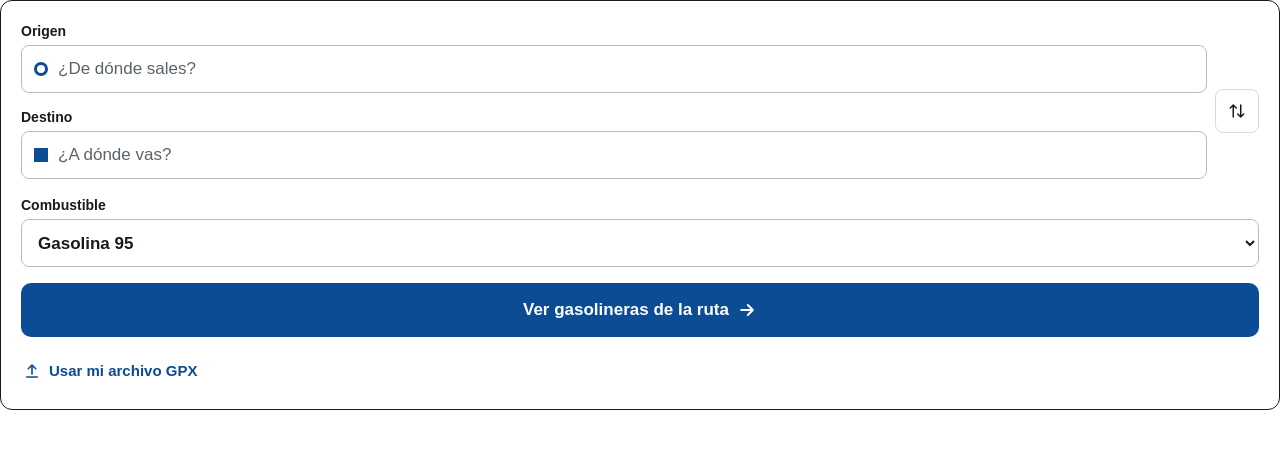
Test case: SearchForm › says when a place does not exist at all
This screenshot has width=1280, height=456.
Type "Xyzzy" into the dropdown labelled "Origen".
click(630, 69); type("Xyzzy")  # box [58,46,1202,92]
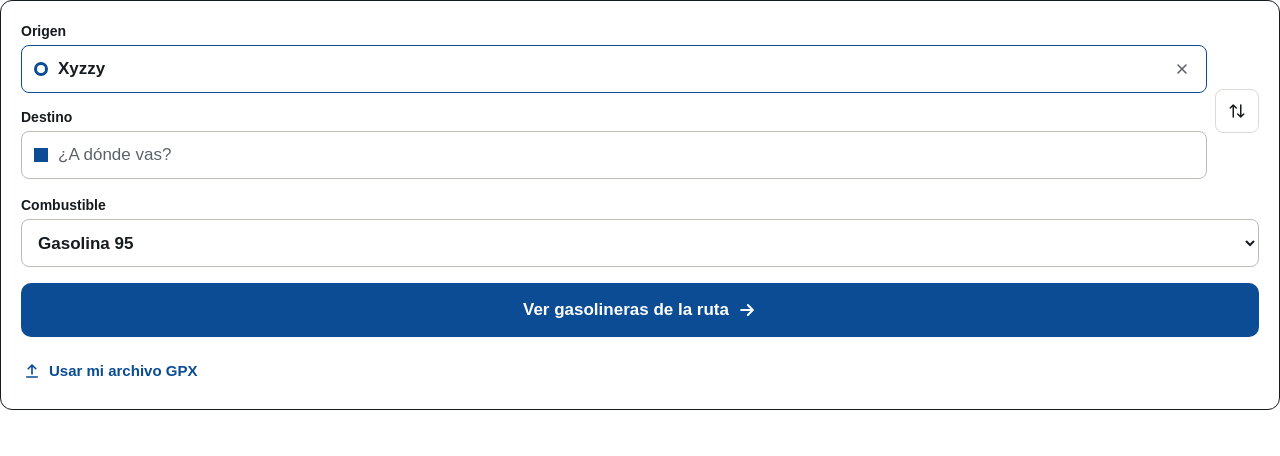
Type "Valencia" into the dropdown labelled "Destino".
click(630, 155); type("Valencia")  # box [58,132,1202,178]
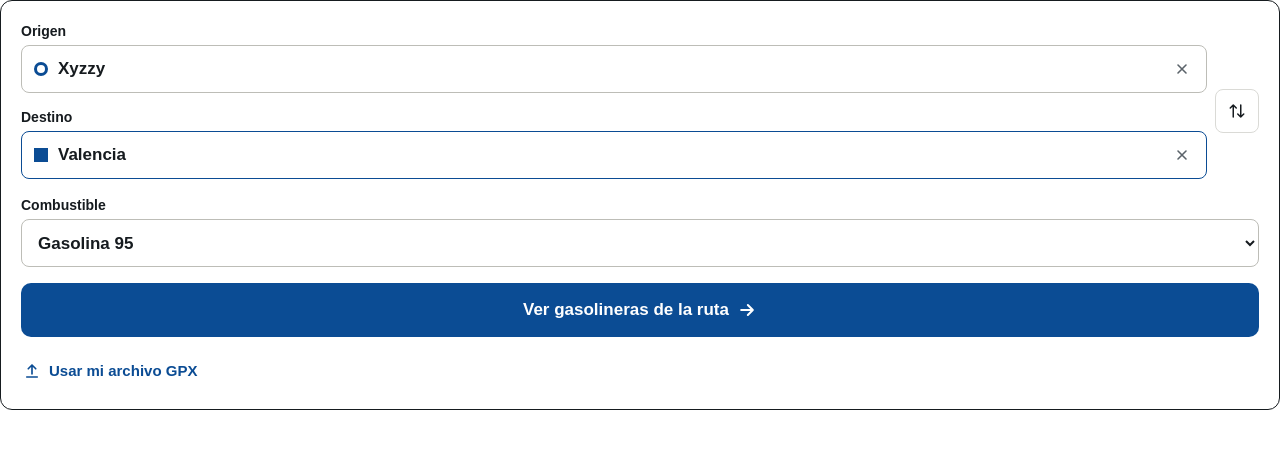
Click the button "Ver gasolineras de la ruta".
click(640, 310)  # box [21,283,1259,337]
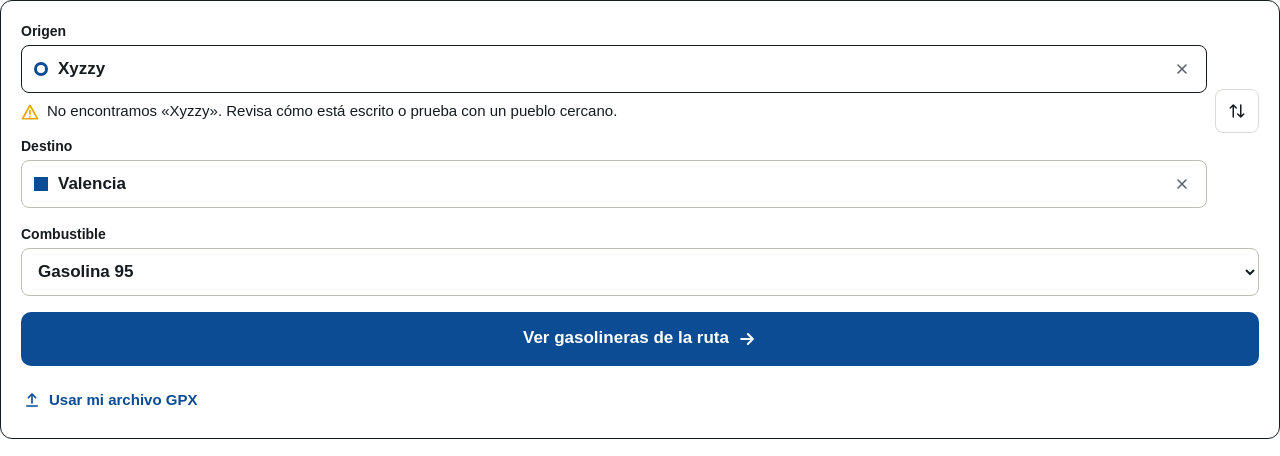
Expected: the text "No encontramos «Xyzzy». Revisa cómo está escrito" is shown, [47,102,617,119]
